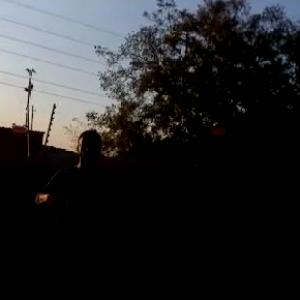follow: (31, 124, 117, 299)
